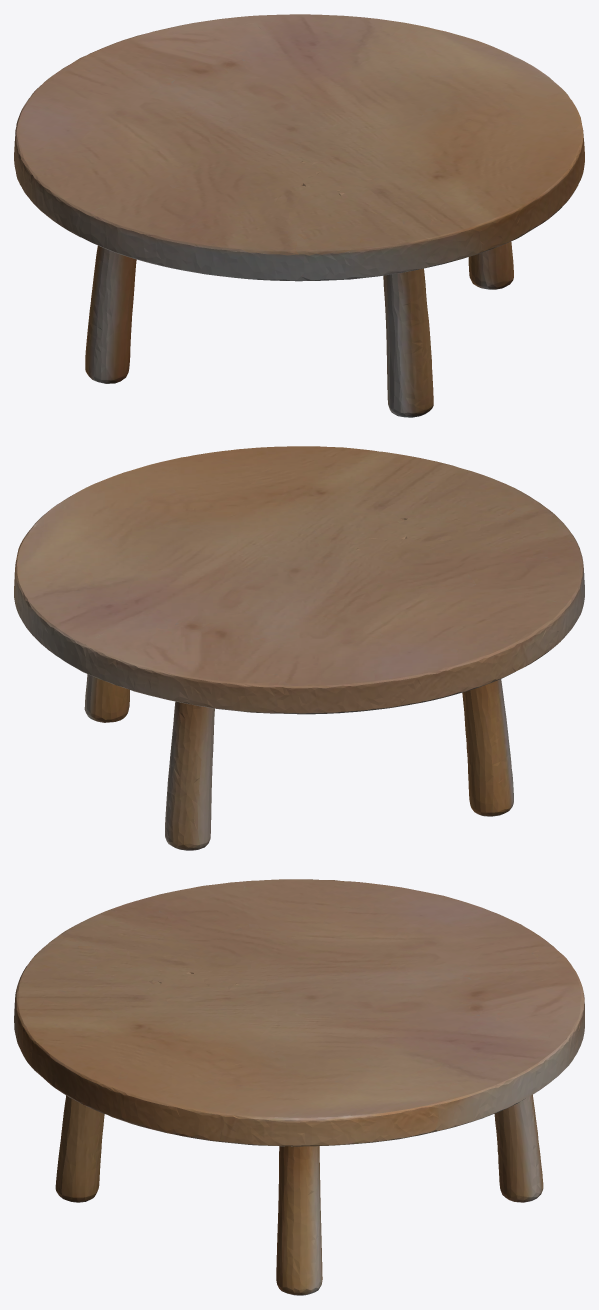
The model's file is ast_ae6d83d34fba.glb.
The picture shows the model from 3 angles, top to bottom: view 1: azimuth 30°, elevation 25°; view 2: azimuth 150°, elevation 25°; view 3: azimuth 270°, elevation 25°; orthographic projection.
Visible parts, largest first — view 1: geometry_0; view 2: geometry_0; view 3: geometry_0.
Boxes of the visible parts, x1,y1,x2,y2 form: geometry_0: (14,14,584,417); geometry_0: (14,446,584,850); geometry_0: (14,879,584,1295).
Bounding box in the file's own units: 1 × 0.3893 × 0.9994.
Materials: 1 (1 with a texture image).
